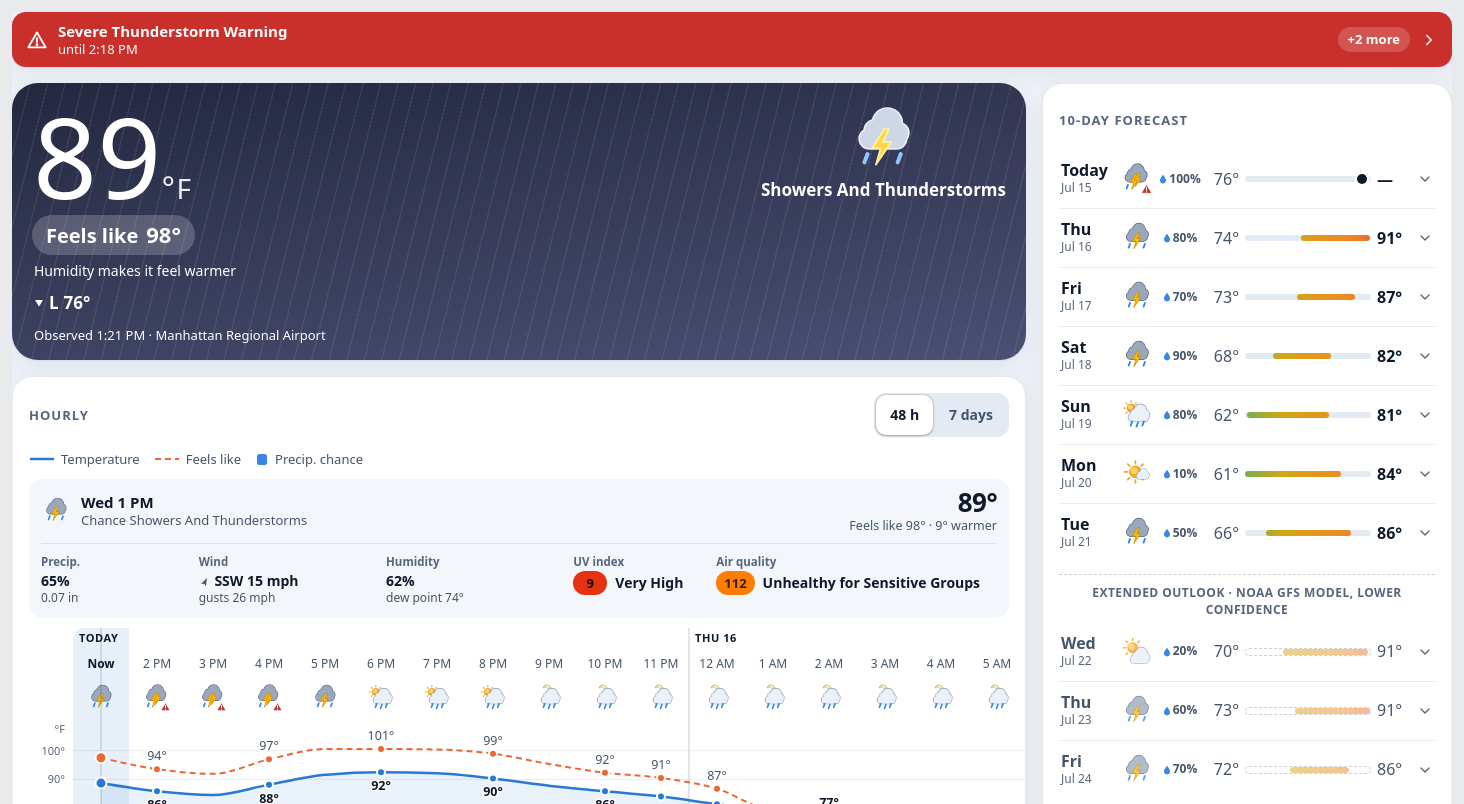
Test: 10-day list › copes with a first day that has no daytime period and no high
Click the button "Today Jul 15 100% 76° —".
click(1247, 179)  # box [1059,150,1435,208]
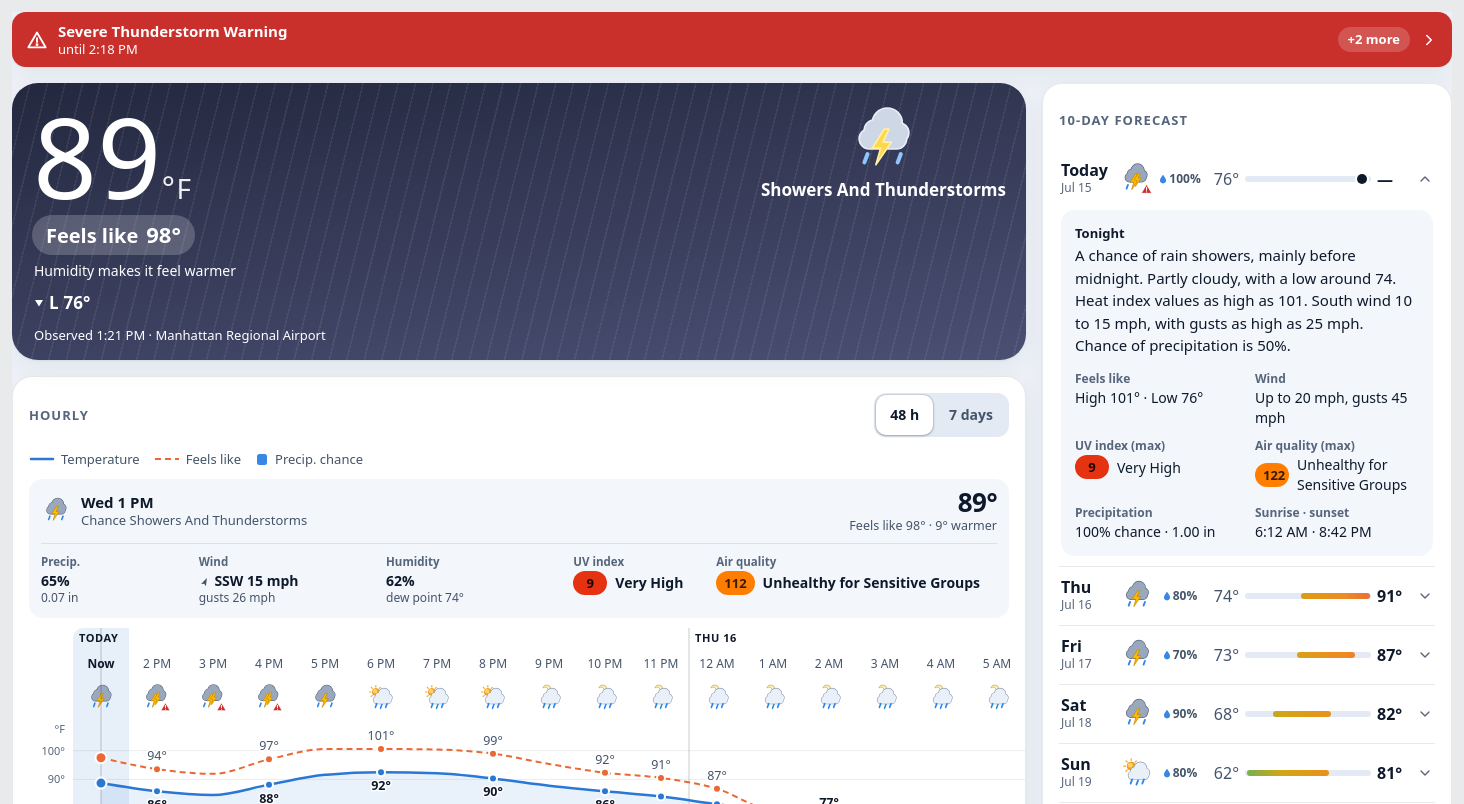
Expected: the element named "Wednesday details" shows "Tonight", [1075,224,1125,242]
